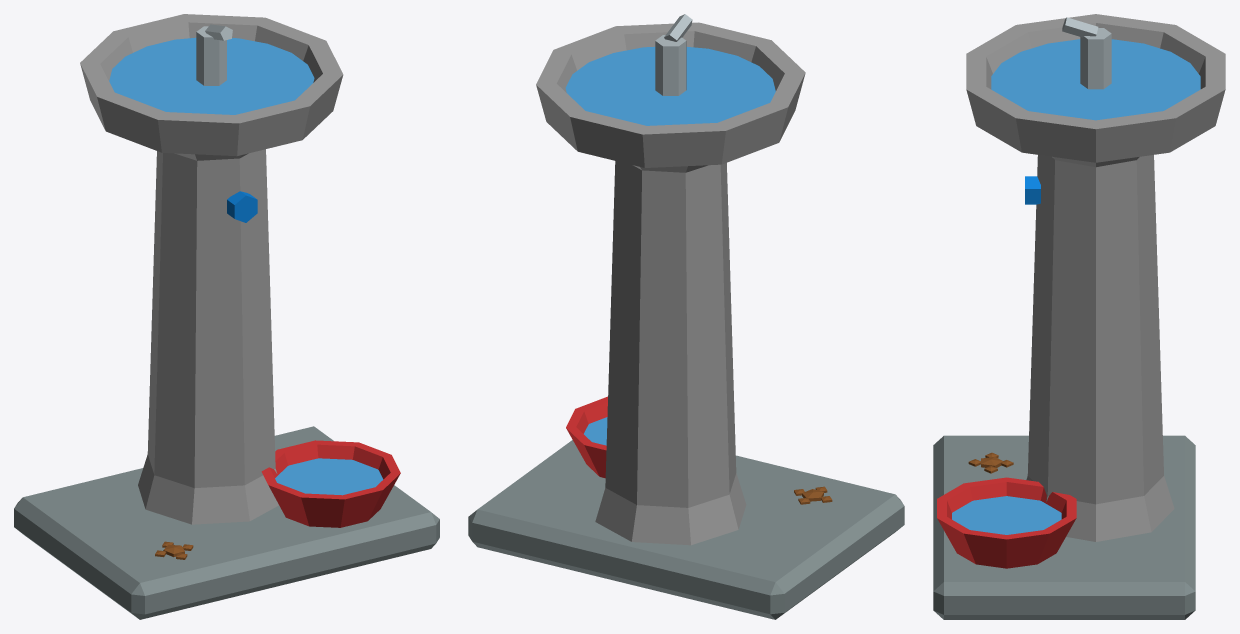
Rendered from trinkbrunnen.glb.
3 views of the same model, side by side, from view 1: azimuth 30°, elevation 25°; view 2: azimuth 150°, elevation 25°; view 3: azimuth 270°, elevation 25° (orthographic). The views are drawn at different scales.
Visible parts, largest first — view 1: trinkbrunnen-m; view 2: trinkbrunnen-m; view 3: trinkbrunnen-m.
Boxes of the visible parts, left/top/right/bottom form: trinkbrunnen-m: left=14, top=14, right=439, bottom=619; trinkbrunnen-m: left=468, top=14, right=904, bottom=619; trinkbrunnen-m: left=933, top=14, right=1225, bottom=619.
Bounding box in the file's own units: 0.7 × 1.11 × 0.5573.
